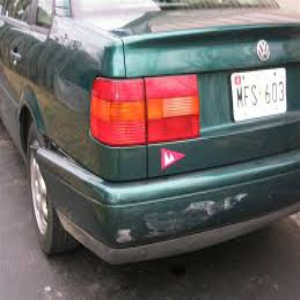bumper_scratch: (111, 185, 250, 244)
